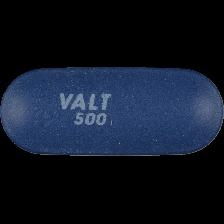55289-926: (0, 0, 224, 224)
